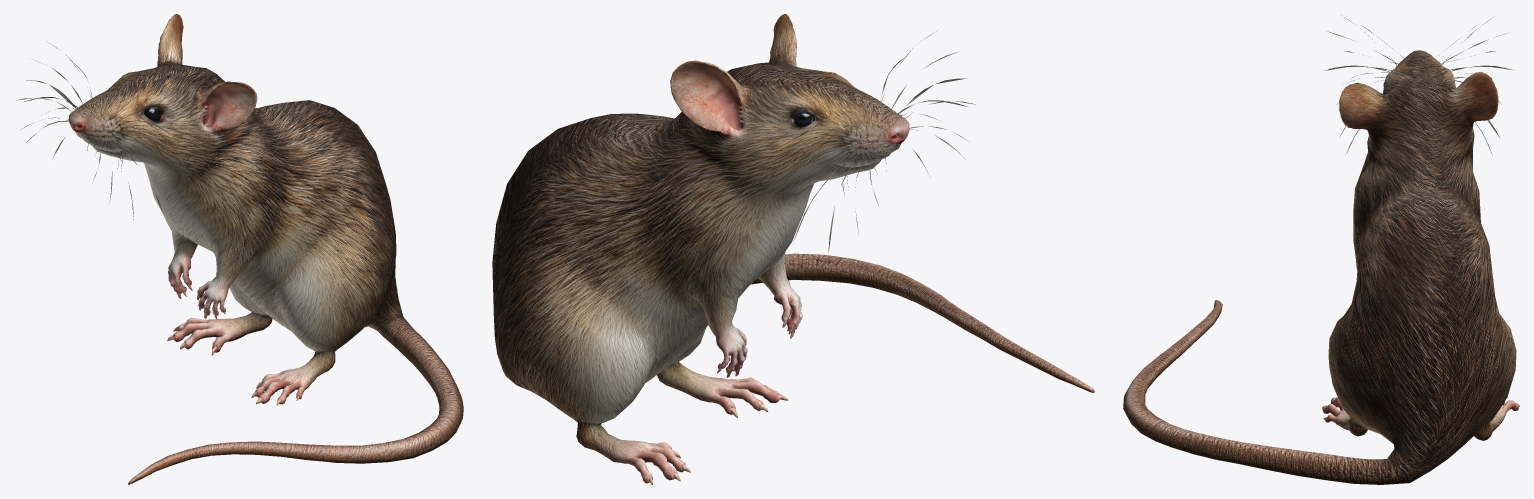
The model's file is pet_rat.glb.
3 views of the same model, side by side, from view 1: azimuth 30°, elevation 25°; view 2: azimuth 150°, elevation 25°; view 3: azimuth 270°, elevation 25° (orthographic). The views are drawn at different scales.
Parts seen in each view (by area): view 1: Model_0; view 2: Model_0; view 3: Model_0.
Boxes of the visible parts, bbox=[...] form: Model_0: bbox=[17, 14, 463, 484]; Model_0: bbox=[492, 14, 1094, 484]; Model_0: bbox=[1123, 17, 1519, 484].
Size of the model in its own units: 1 by 0.863 by 0.9413.
1 material, 1 textured.
